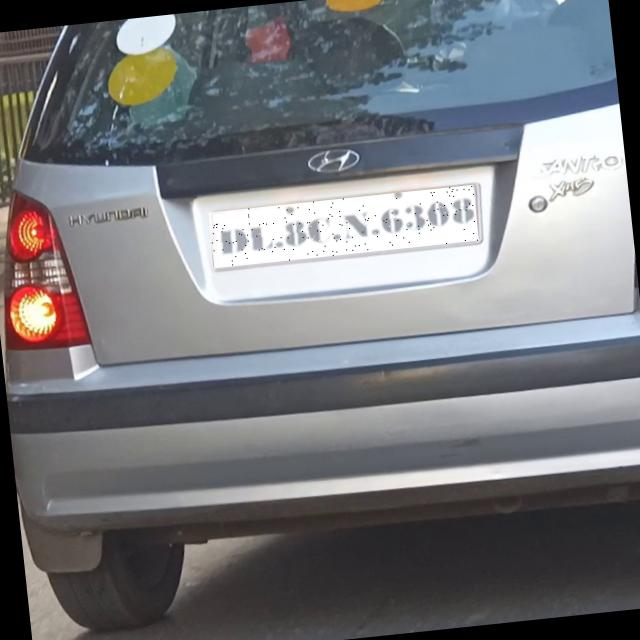Plate: (210, 186, 480, 269)
